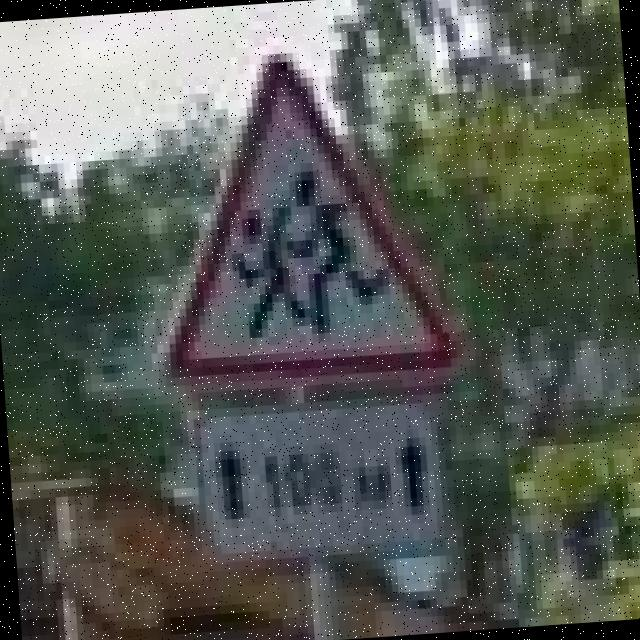Zakaz ruchu w obu kierunkach: (137, 42, 464, 395)
